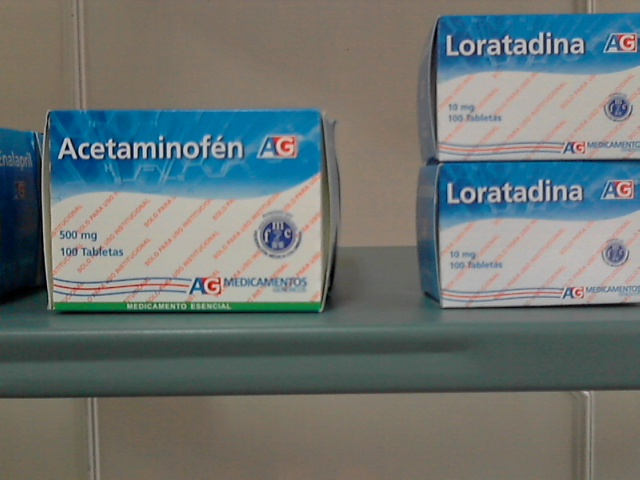AG: (49, 110, 320, 310), (440, 16, 640, 158), (441, 164, 640, 305)
